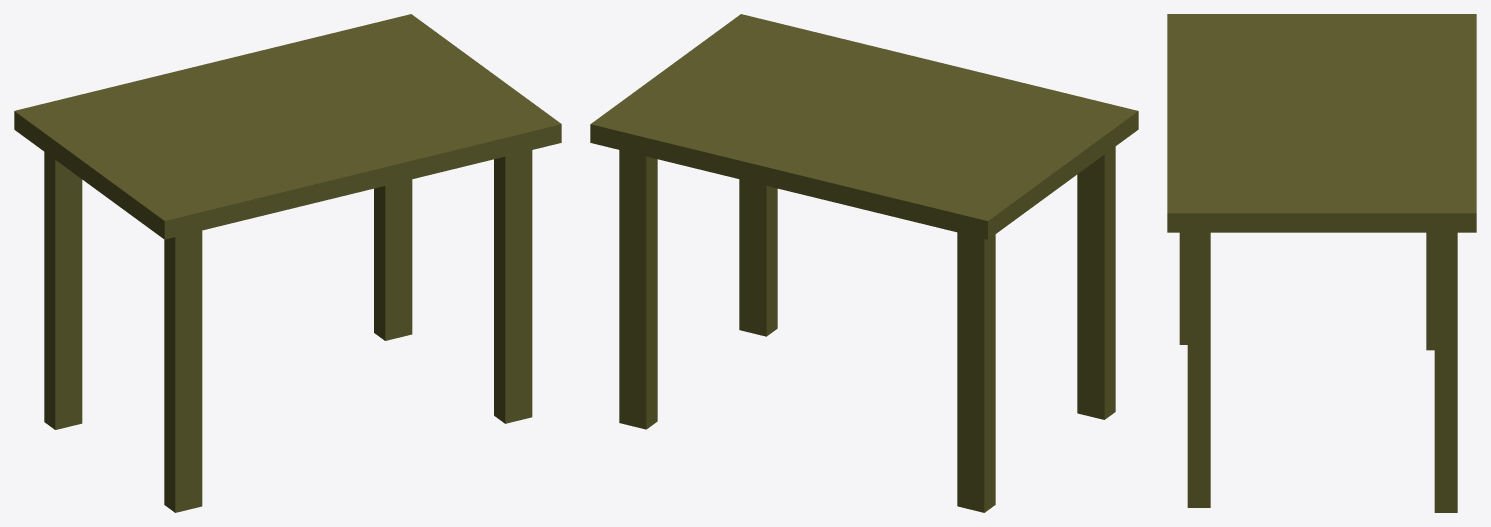
File: Table.fbx
3 renders of one model, left to right at view 1: azimuth 30°, elevation 25°; view 2: azimuth 150°, elevation 25°; view 3: azimuth 270°, elevation 25°, orthographic. The views are drawn at different scales.
Visible parts, largest first — view 1: Table; view 2: Table; view 3: Table.
Part boxes in pixels (box(x1,y1,x2,y2)): Table: box(14, 14, 561, 512); Table: box(590, 14, 1138, 512); Table: box(1167, 14, 1476, 512).
Size of the model in its own units: 3.13 by 2.3 by 2.05.
